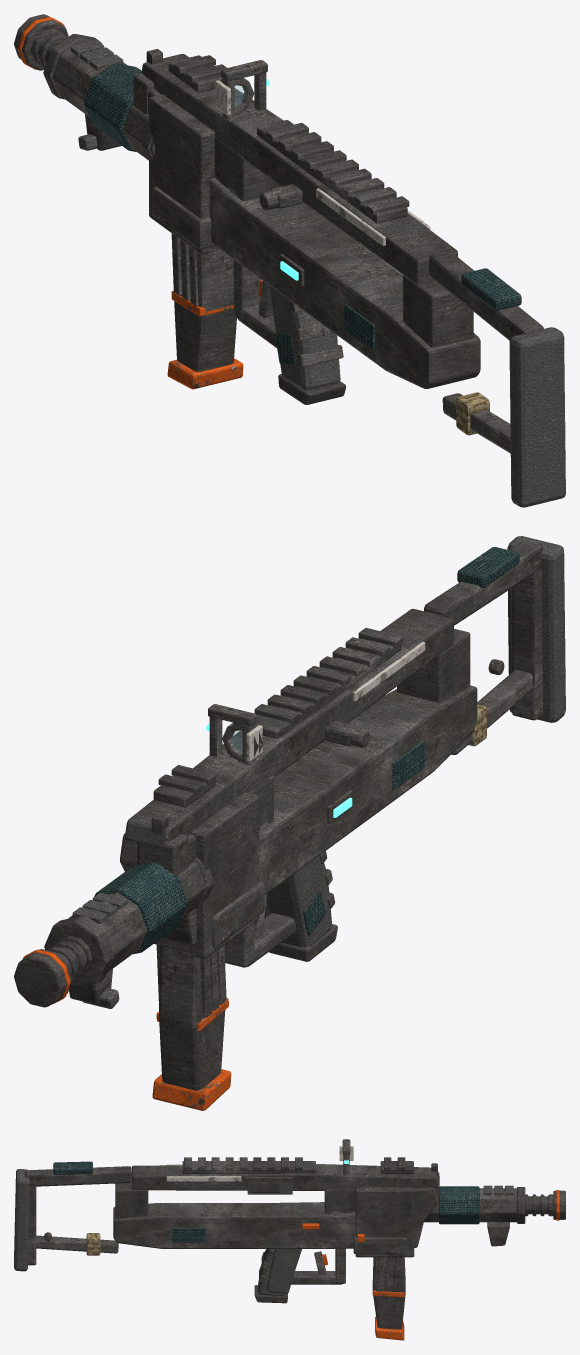
File: weapon.glb
3 renders of one model, top to bottom at view 1: azimuth 30°, elevation 25°; view 2: azimuth 150°, elevation 25°; view 3: azimuth 270°, elevation 25°, orthographic. The views are drawn at different scales.
Visible parts, largest first — view 1: body | gunmetal, body | rubber, mag | gunmetal, body | petrol fabric, factory-optic | gunmetal, mag | orange paint, body | tan webbing, body | ivory coating, bolt | gunmetal; view 2: body | gunmetal, body | rubber, mag | gunmetal, body | petrol fabric, factory-optic | gunmetal, mag | orange paint, bolt | gunmetal, body | ivory coating; view 3: body | gunmetal, body | rubber, body | petrol fabric, mag | gunmetal, mag | orange paint, body | ivory coating, body | tan webbing, bolt | gunmetal, body | orange paint, factory-optic | gunmetal.
Boxes of the visible parts, x1,y1,x2,y2 form: body | gunmetal: [14, 14, 544, 453]; body | rubber: [70, 40, 565, 507]; mag | gunmetal: [171, 233, 236, 371]; body | petrol fabric: [84, 63, 521, 365]; factory-optic | gunmetal: [214, 60, 267, 118]; mag | orange paint: [167, 291, 243, 389]; body | tan webbing: [456, 392, 489, 435]; body | ivory coating: [316, 188, 430, 245]; bolt | gunmetal: [259, 184, 302, 210]; body | gunmetal: [14, 541, 543, 1007]; body | rubber: [72, 536, 565, 1008]; mag | gunmetal: [156, 944, 226, 1090]; body | petrol fabric: [94, 547, 519, 954]; factory-optic | gunmetal: [208, 704, 263, 765]; mag | orange paint: [152, 998, 231, 1110]; bolt | gunmetal: [325, 720, 369, 747]; body | ivory coating: [352, 641, 425, 701]; body | gunmetal: [25, 1157, 565, 1303]; body | rubber: [14, 1169, 513, 1295]; body | petrol fabric: [53, 1161, 479, 1242]; mag | gunmetal: [372, 1257, 405, 1329]; mag | orange paint: [372, 1290, 404, 1340]; body | ivory coating: [166, 1164, 241, 1181]; body | tan webbing: [86, 1233, 100, 1255]; bolt | gunmetal: [250, 1182, 279, 1192]; body | orange paint: [302, 1190, 559, 1242]; factory-optic | gunmetal: [342, 1139, 350, 1175].
Bounding box in the file's own units: 0.116 × 0.3917 × 1.03.
8 materials, 6 textured.
